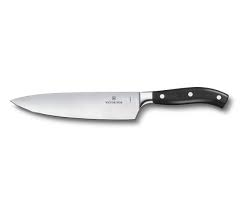knife: (9, 85, 230, 122)
